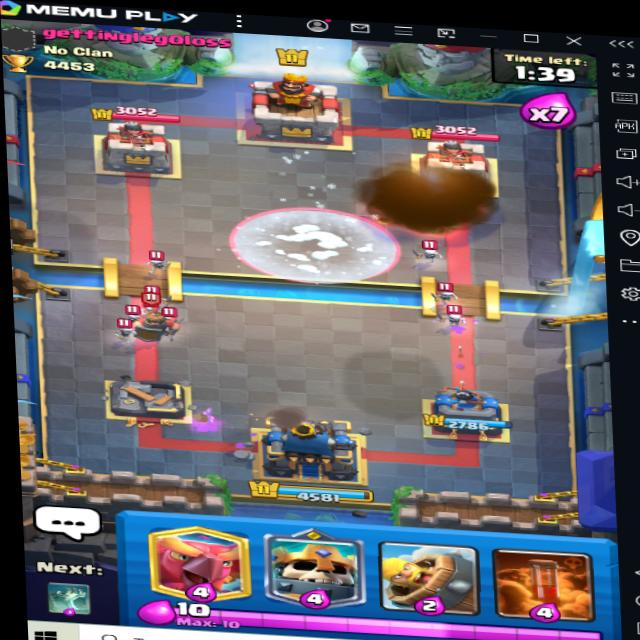freeze: (229, 204, 401, 285)
royal-recruits: (135, 302, 187, 343)
skeleton: (431, 301, 472, 332), (108, 321, 138, 341), (431, 287, 459, 305), (147, 250, 170, 271), (421, 245, 445, 265)
